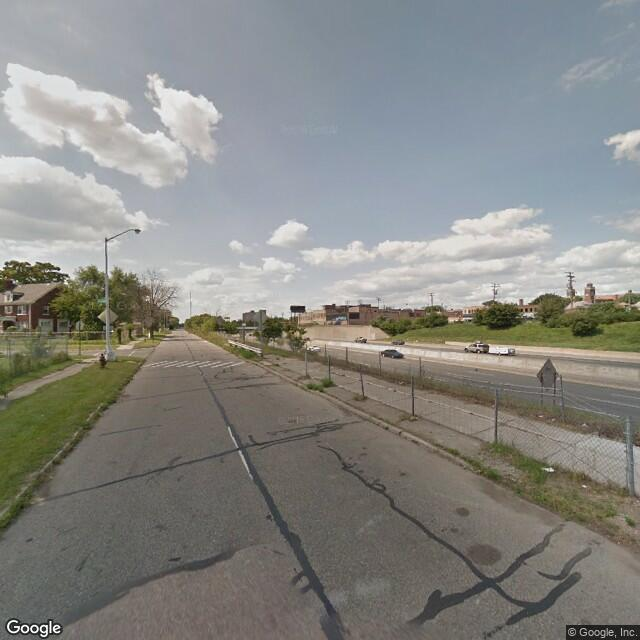litter: (537, 457, 560, 477), (577, 479, 594, 493)
